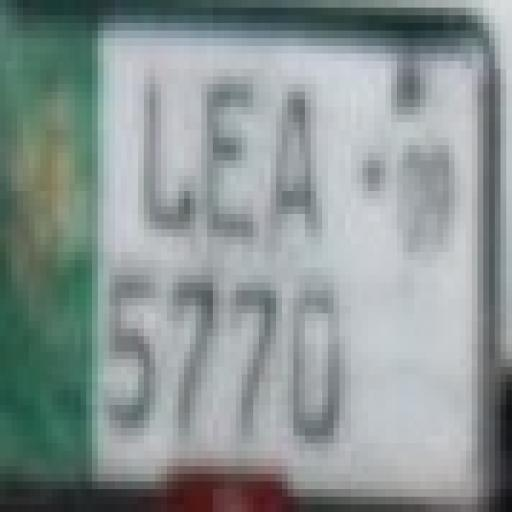0: (286, 284, 338, 454)
5: (99, 268, 166, 444)
7: (228, 278, 279, 448), (170, 265, 216, 447)
A: (270, 74, 324, 275)
E: (205, 74, 253, 248)
L: (138, 68, 198, 252)
